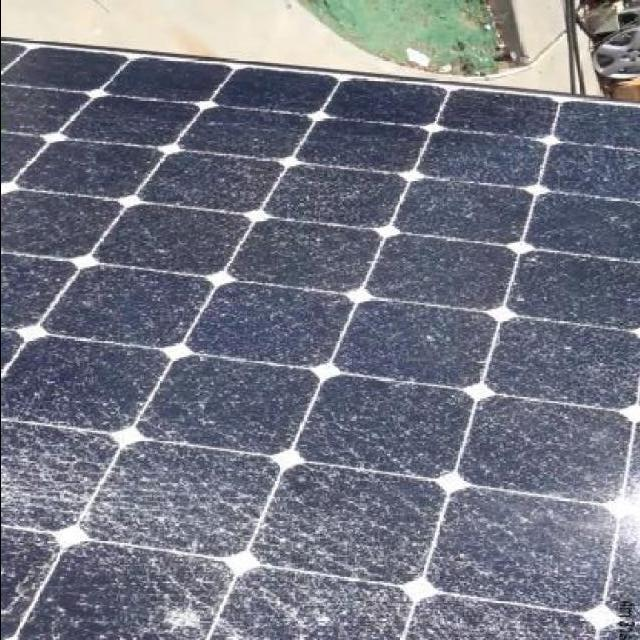cracked: (0, 43, 634, 639)
